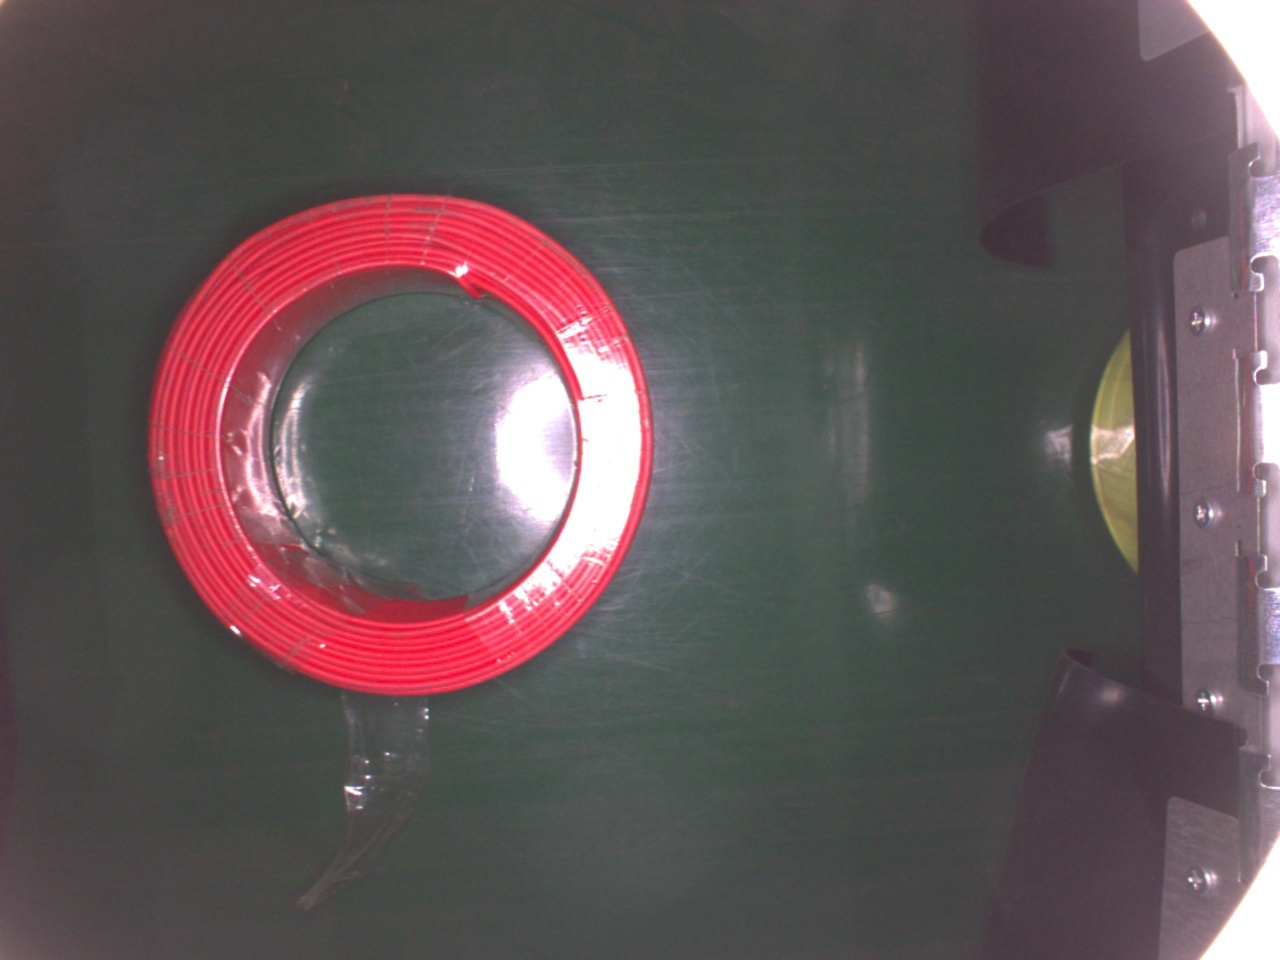red: (147, 186, 652, 698)
